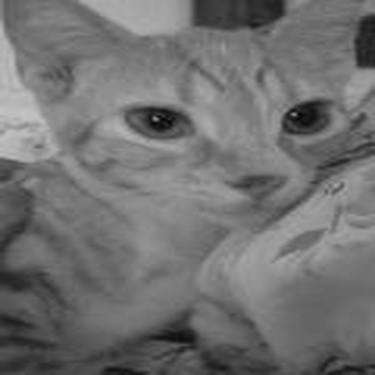cat: (5, 3, 351, 345)
